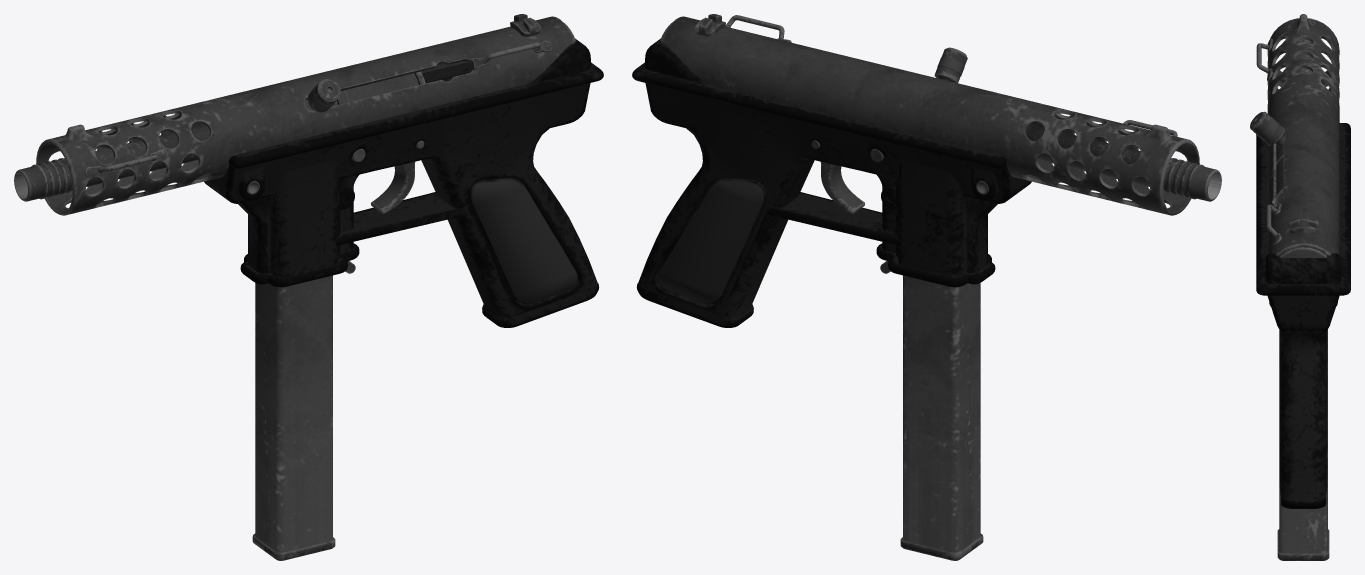
File: tec-9.glb
3 views of the same model, side by side, from view 1: azimuth 30°, elevation 25°; view 2: azimuth 150°, elevation 25°; view 3: azimuth 270°, elevation 25° (orthographic). The views are drawn at different scales.
Parts seen in each view (by area): view 1: Cube; view 2: Cube; view 3: Cube.
Boxes of the visible parts, bbox=[...] form: Cube: bbox=[14, 14, 603, 560]; Cube: bbox=[632, 14, 1221, 560]; Cube: bbox=[1250, 14, 1350, 560].
Bounding box in the file's own units: 4.87 × 3.9 × 0.8102.
Materials: 1 (1 with a texture image).
